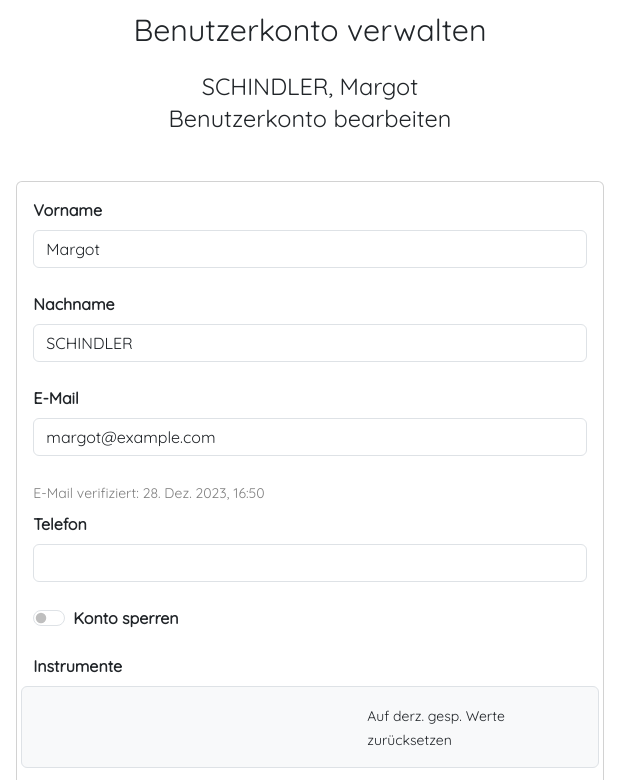
Test: UserFormView › switches to "nicht verifiziert" once the pre-filled email is edited
The width and height of the screenshot is (621, 780).
Replace the text in the field with id "user-email" with "other@example.com": (310, 437) [33, 418, 587, 456]
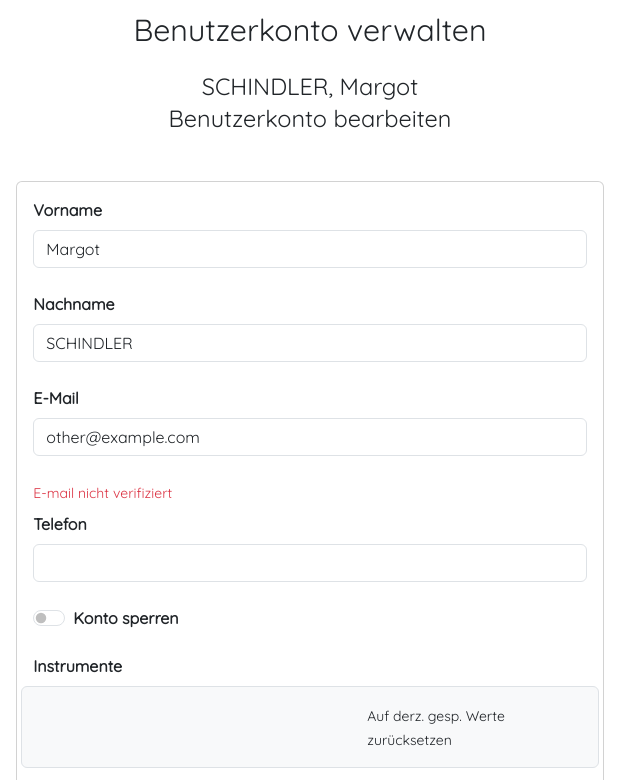
Result: the text "E-Mail verifiziert:" is gone
Result: the text "E-mail nicht verifiziert" is shown at [33, 484, 172, 502]
